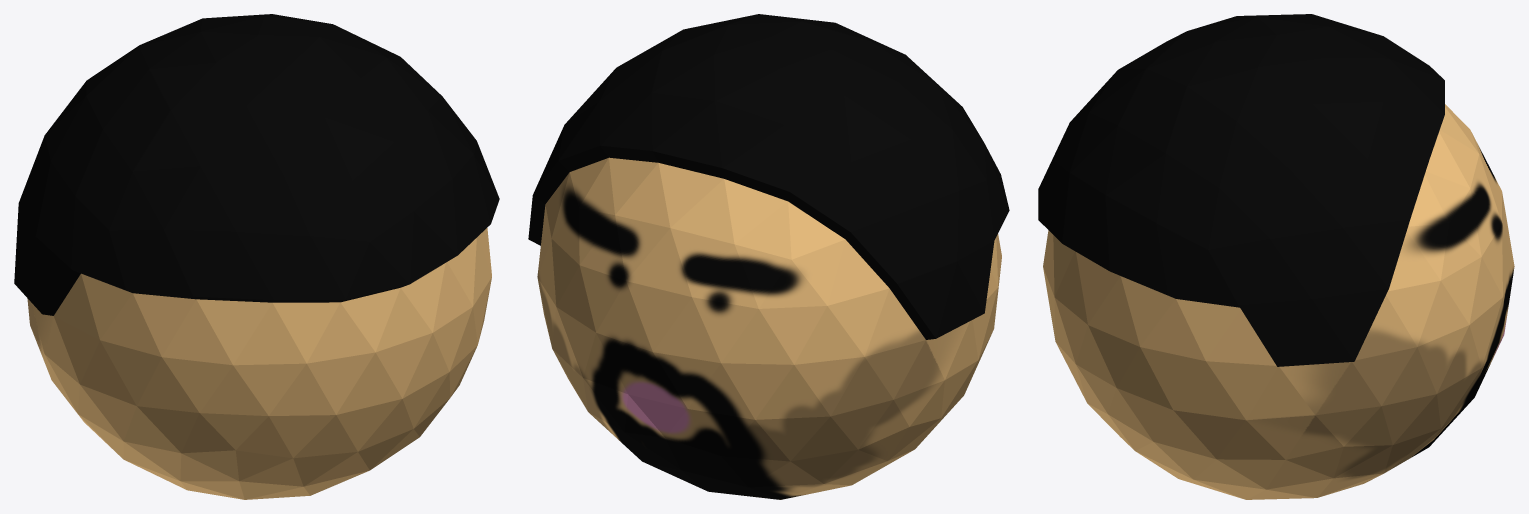
File: footballer3.obj
3 views of the same model, side by side, from view 1: azimuth 30°, elevation 25°; view 2: azimuth 150°, elevation 25°; view 3: azimuth 270°, elevation 25° (orthographic).
Visible parts, largest first — view 1: Icosphere; view 2: Icosphere; view 3: Icosphere.
Boxes of the visible parts, box(x1,y1,x2,y2) form: Icosphere: box(14, 14, 499, 499); Icosphere: box(528, 14, 1009, 499); Icosphere: box(1038, 14, 1514, 499).
Bounding box in the file's own units: 2.12 × 2.08 × 2.02.
